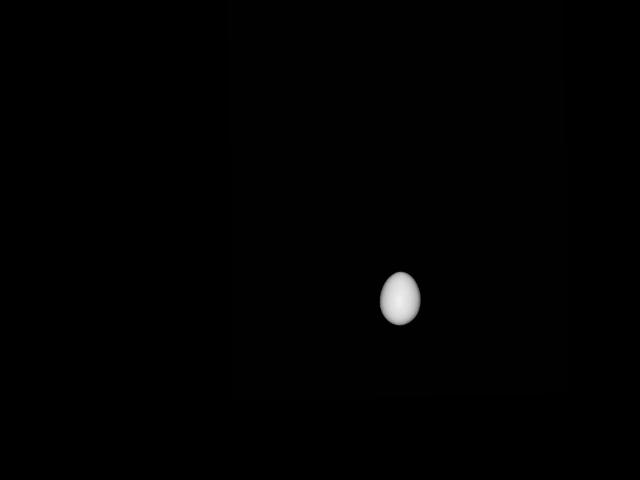egg: (379, 272, 421, 325)
